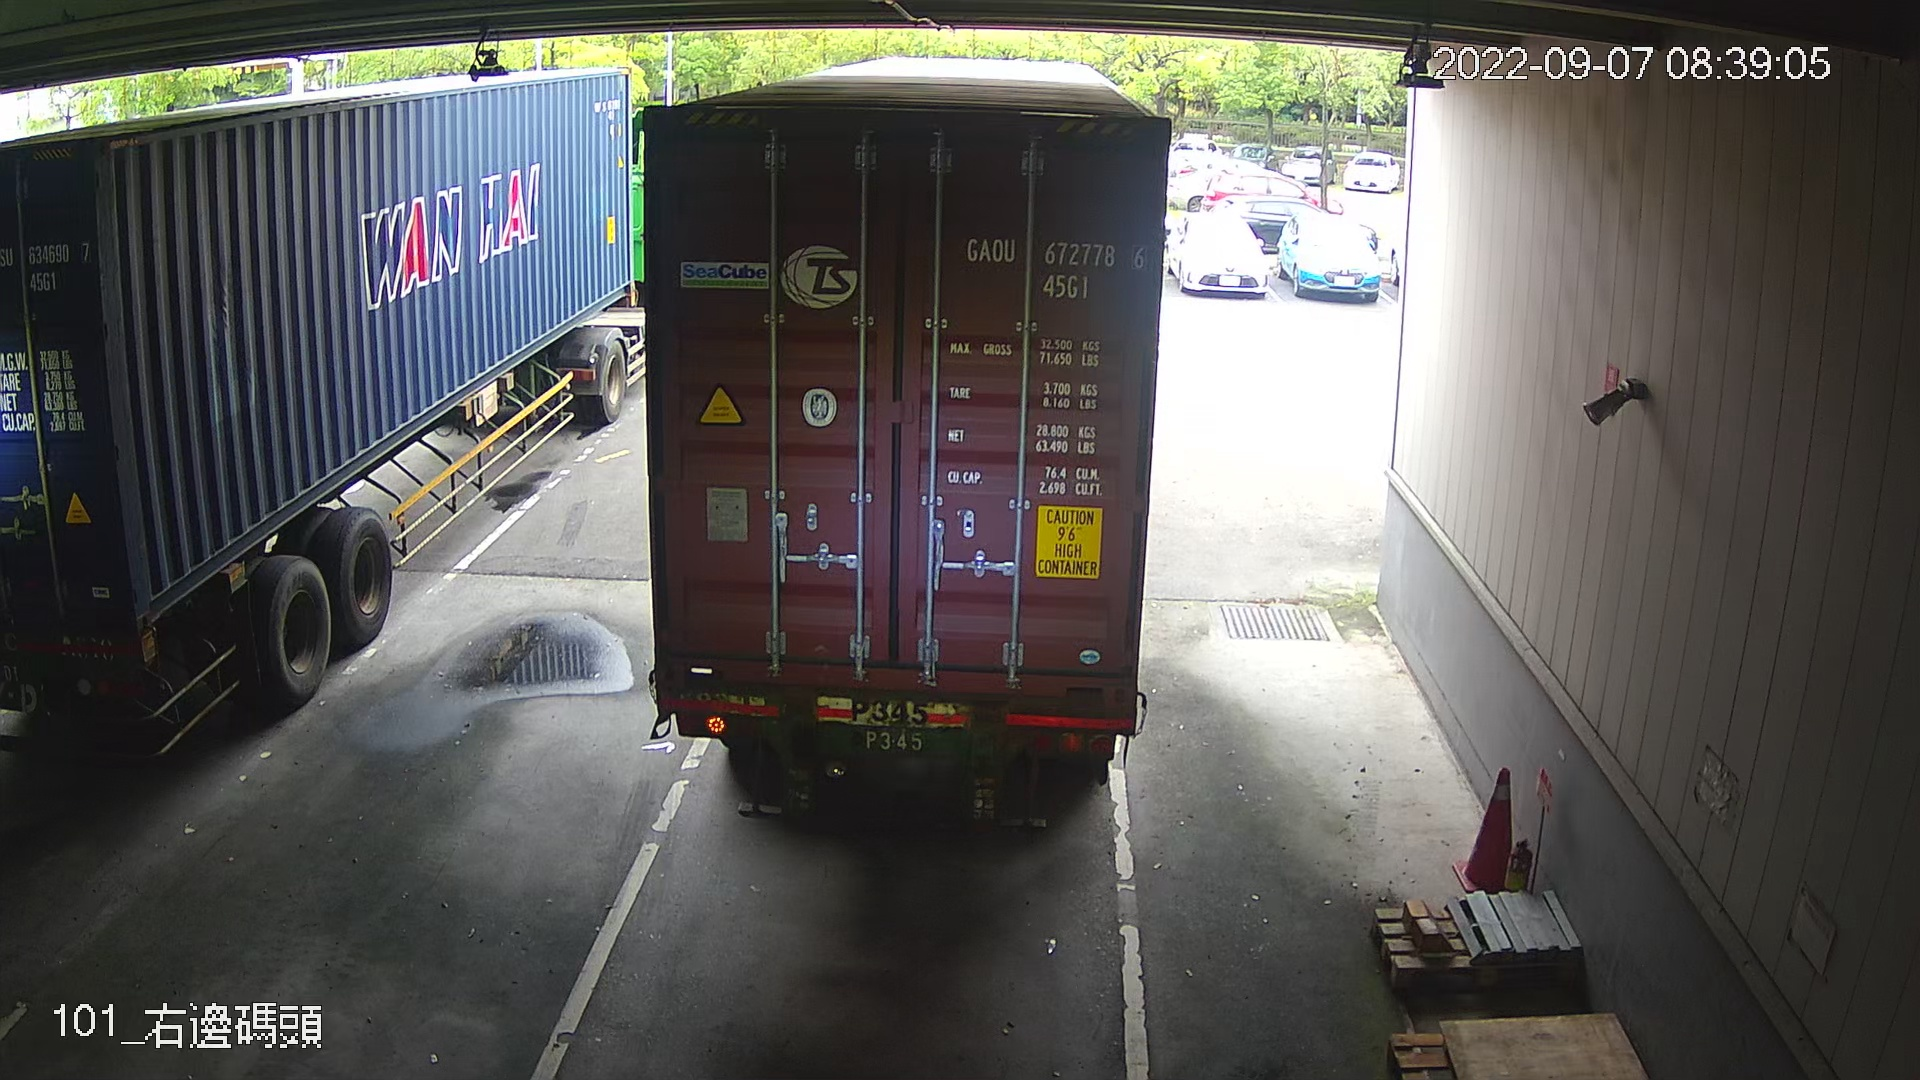container: (956, 227, 1154, 309)
